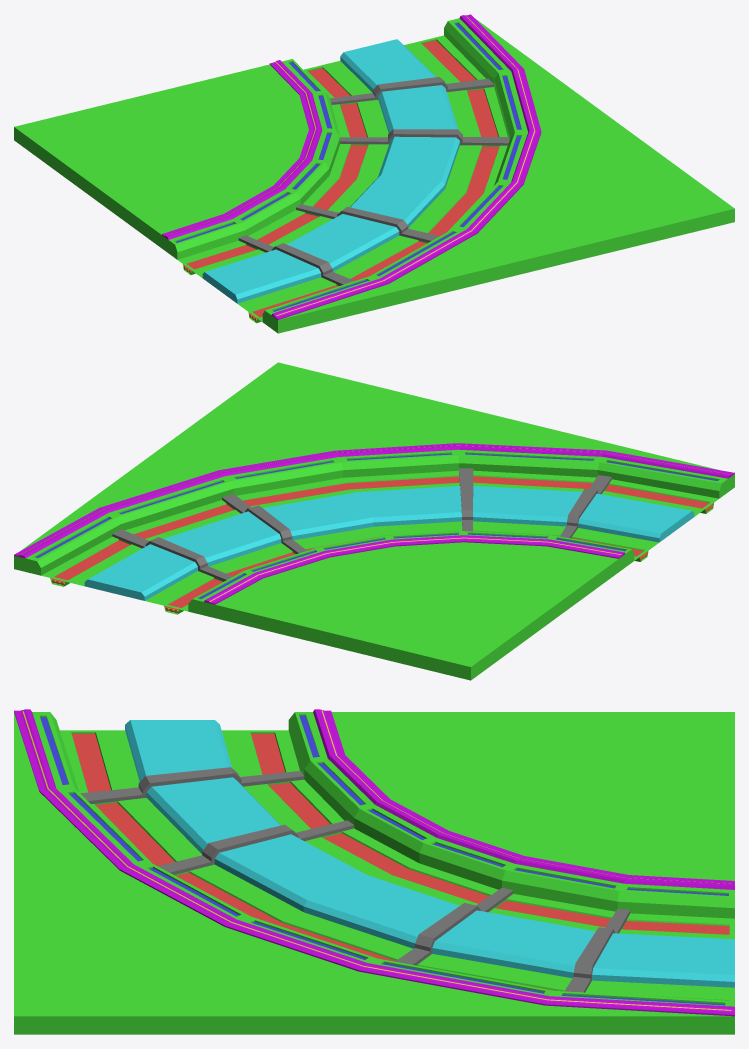
Rendered from Interior_Deco_06_Corner_B.fbx.
3 views of the same model, one above another, from view 1: azimuth 30°, elevation 25°; view 2: azimuth 150°, elevation 25°; view 3: azimuth 270°, elevation 25° (orthographic). The views are drawn at different scales.
Parts seen in each view (by area): view 1: Interior_Deco_06_Corner_B; view 2: Interior_Deco_06_Corner_B; view 3: Interior_Deco_06_Corner_B.
Part boxes in pixels (x1,y1,x2,y2): Interior_Deco_06_Corner_B: (14, 14, 734, 333); Interior_Deco_06_Corner_B: (14, 362, 734, 680); Interior_Deco_06_Corner_B: (14, 709, 734, 1034).
Bounding box in the file's own units: 1038 × 46.16 × 1039.
